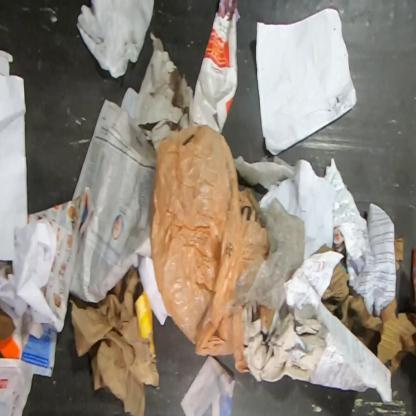cardboard: (321, 262, 383, 358), (376, 294, 415, 379), (394, 232, 404, 272), (310, 243, 336, 256), (412, 245, 415, 316)
soft_plastic: (150, 124, 270, 374), (222, 196, 306, 316), (76, 0, 155, 79), (256, 306, 275, 332)
